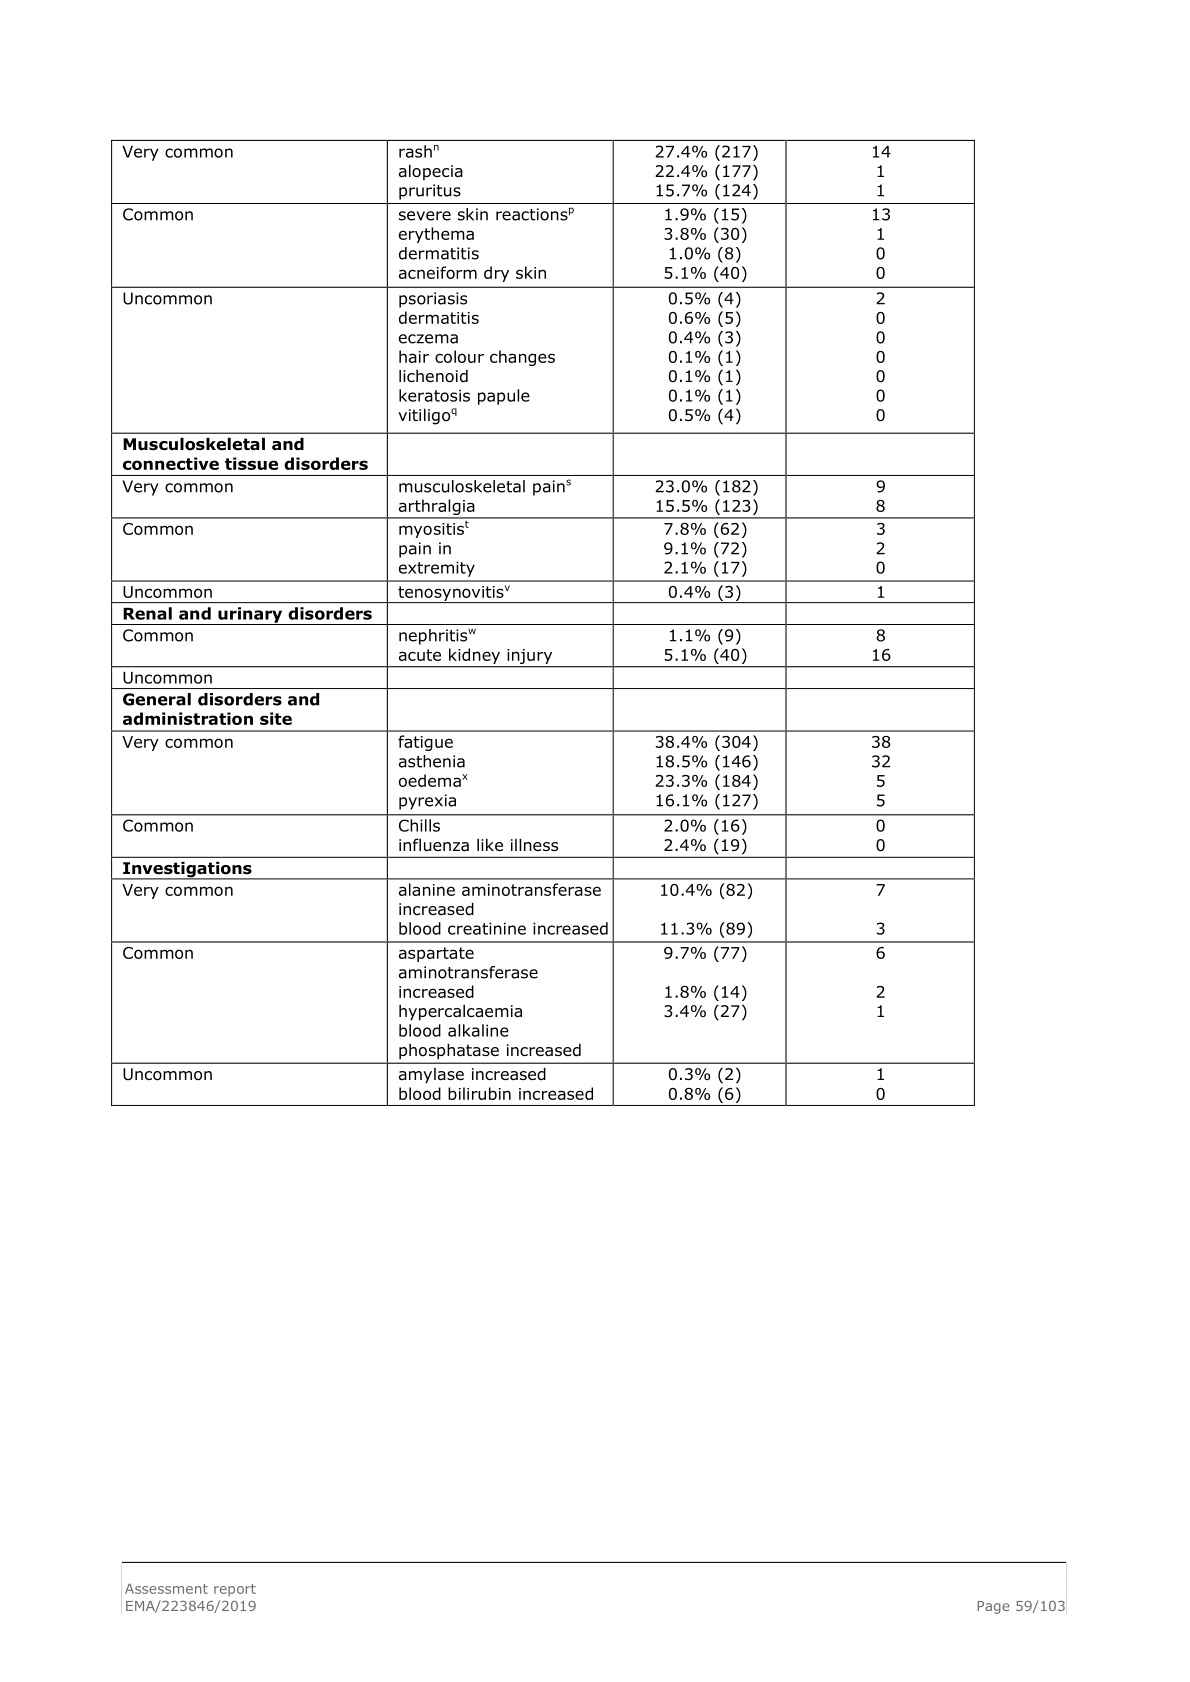full_lined: (109, 139, 976, 1108)
